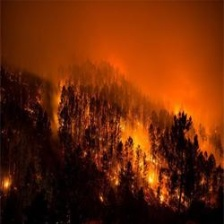fire: (65, 68, 199, 207)
